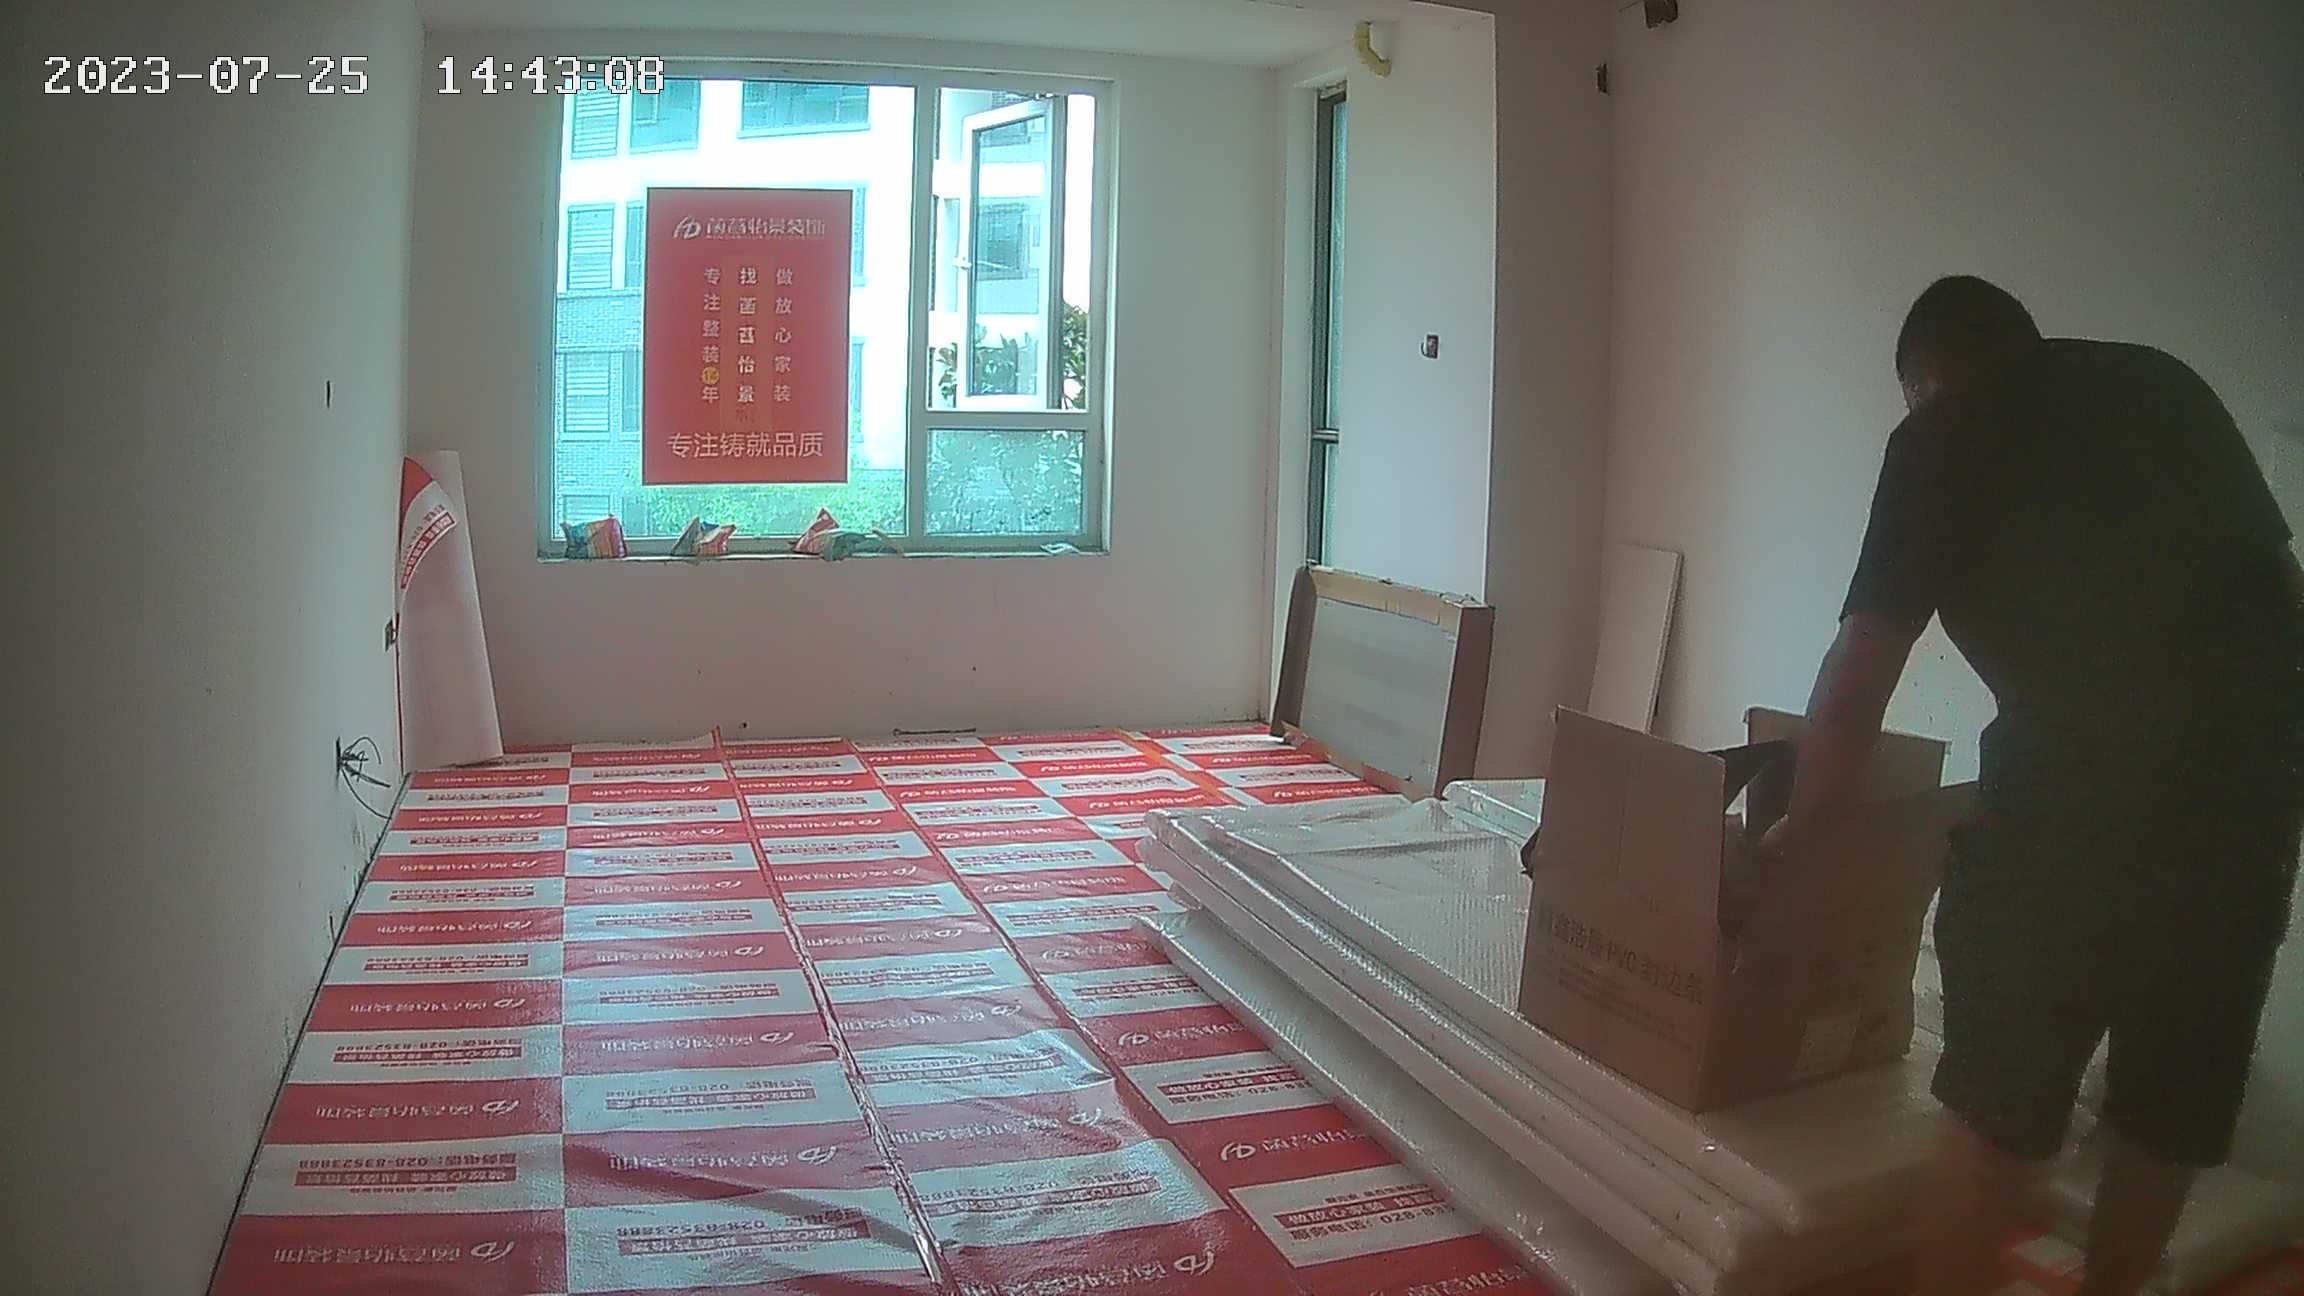people: (1797, 276, 2304, 1275)
window: (558, 74, 1097, 552)
